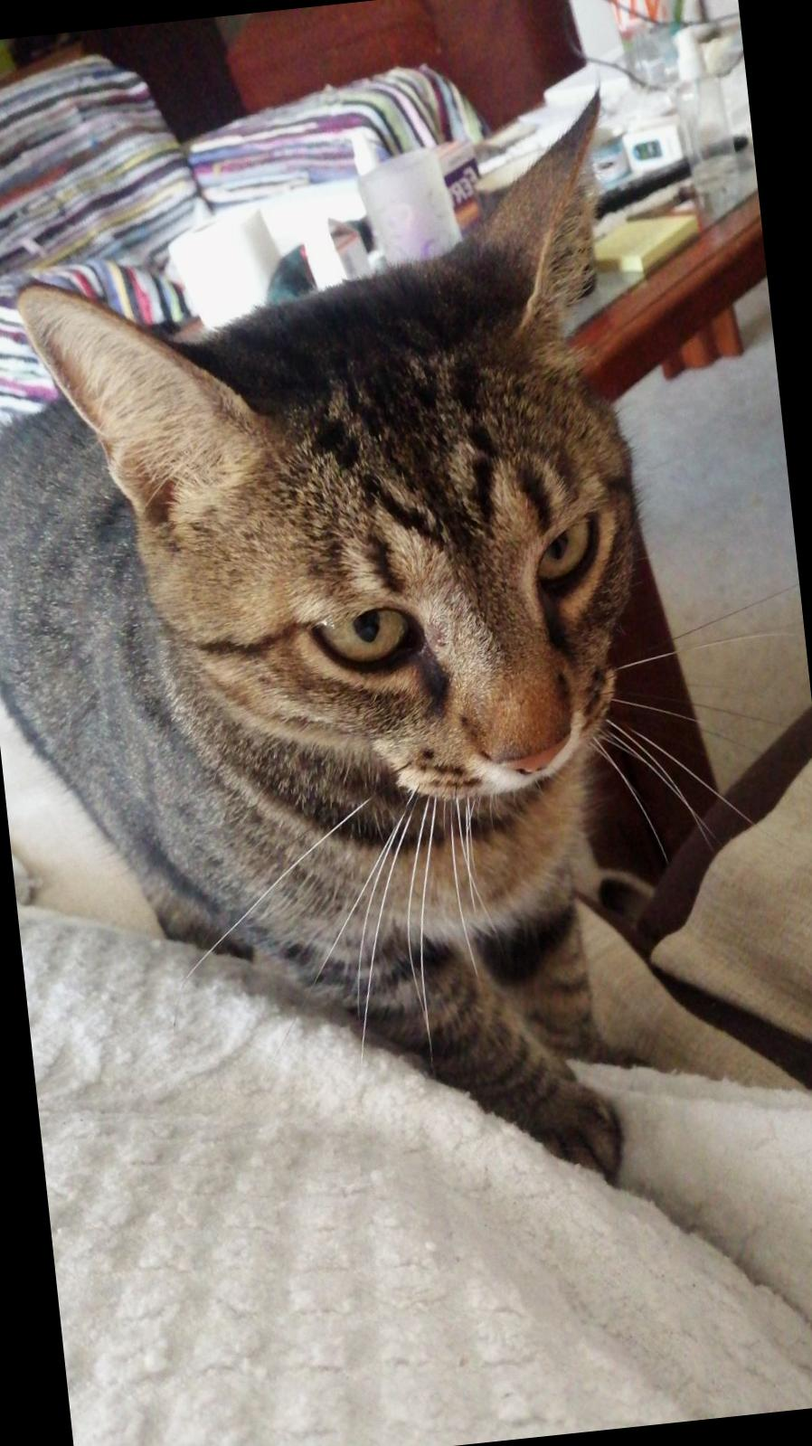macka: (0, 88, 713, 1236)
